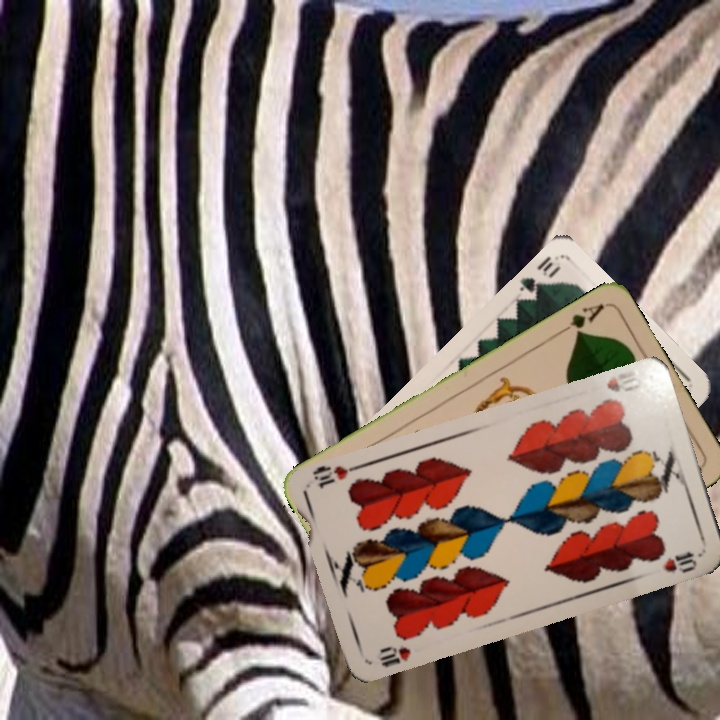G10: (515, 252, 564, 303)
GA: (554, 299, 607, 339)
H10: (602, 366, 645, 395), (375, 642, 414, 670)
